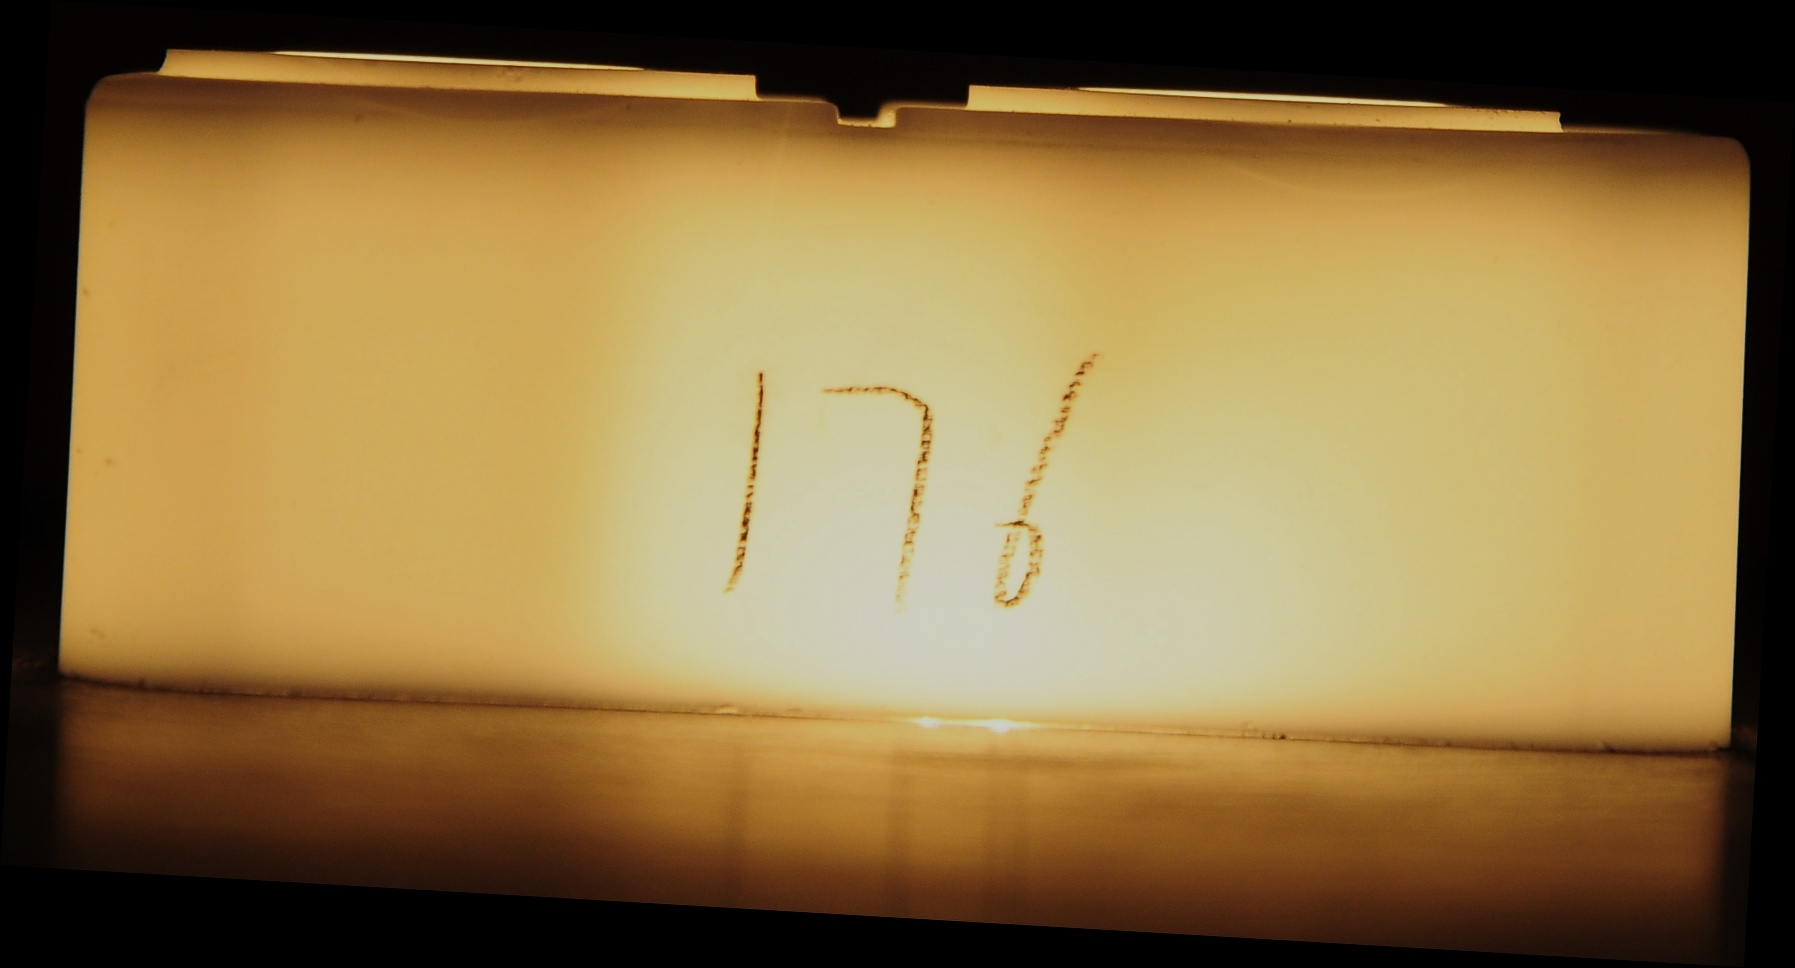flaw: (1195, 144, 1552, 213), (328, 89, 673, 136)
